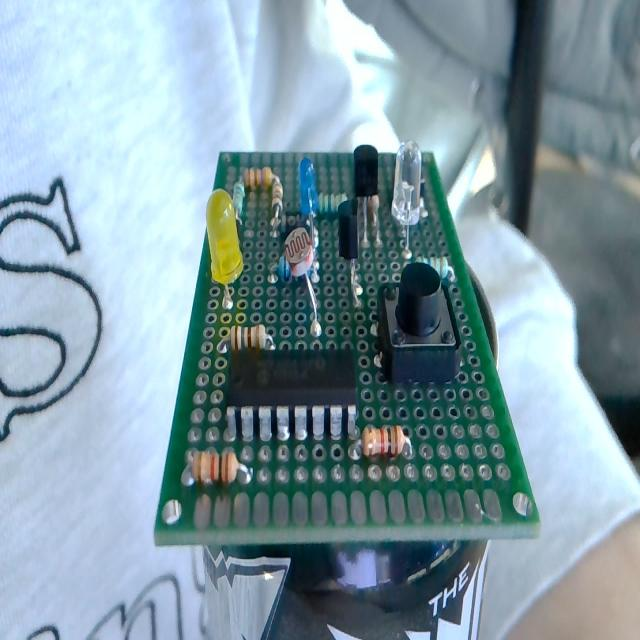IC: (226, 343, 354, 425)
cds: (284, 227, 320, 328)
led: (206, 188, 245, 313), (391, 141, 423, 255), (299, 156, 319, 258)
resistor: (192, 449, 250, 486), (361, 424, 408, 458), (227, 324, 275, 353), (243, 165, 279, 192), (269, 176, 285, 233), (232, 178, 246, 221), (319, 192, 346, 214)
switch: (378, 264, 460, 385)
transistor: (354, 144, 378, 252), (338, 197, 361, 309)
